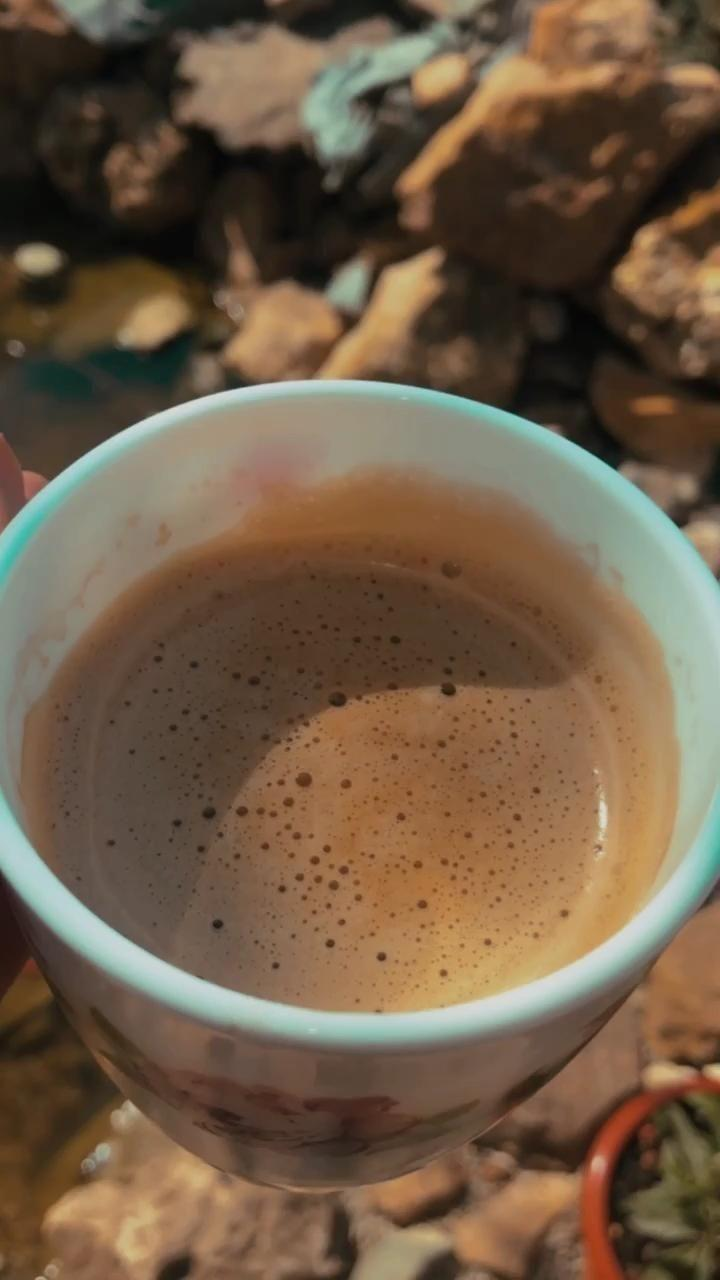cup-handle: (1, 365, 719, 1200)
